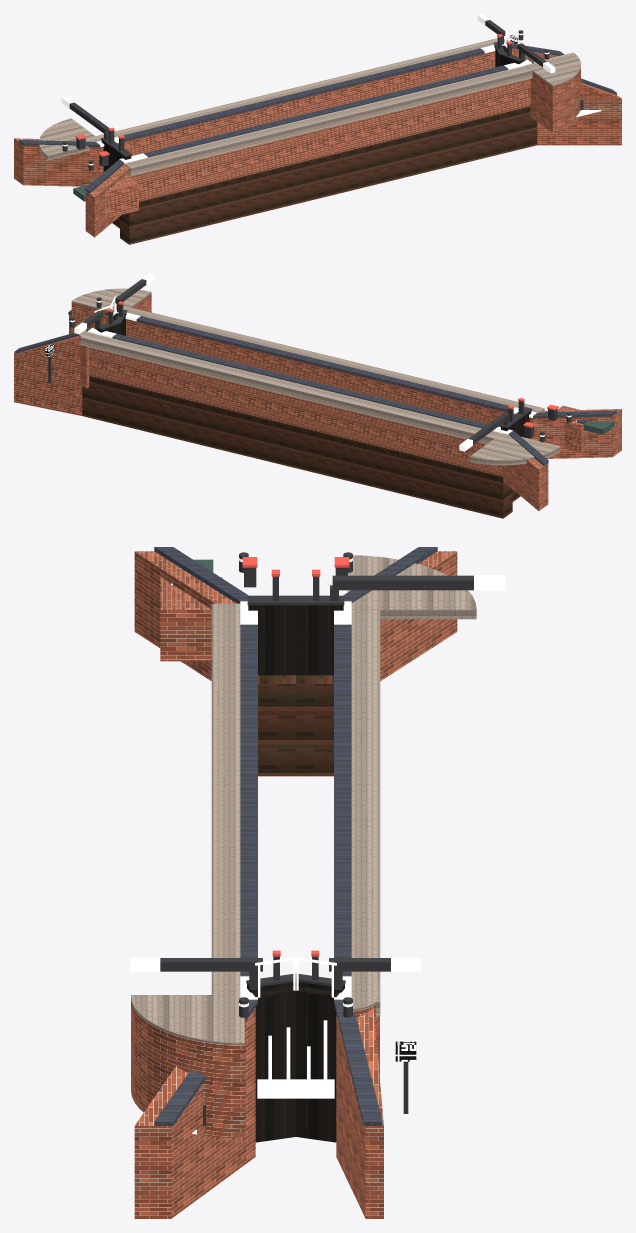
File: lock-50.glb
3 views of the same model, one above another, from view 1: azimuth 30°, elevation 25°; view 2: azimuth 150°, elevation 25°; view 3: azimuth 270°, elevation 25° (orthographic). The views are drawn at different scales.
Parts seen in each view (by area): view 1: Chamber, ChamberWet, Edge, Coping.001, TopGateCap, Coping, TopGate; view 2: Chamber, ChamberWet, Edge, Coping.001, TopGateCap, Coping, TopGate; view 3: Chamber, Edge, Coping.001, TopGate, TopGateCap, ChamberWet, Coping, Leak.
Boxes of the visible parts, x1,y1,x2,y2 form: Chamber: (14, 43, 621, 237); ChamberWet: (112, 106, 537, 244); Edge: (39, 38, 580, 175); Coping.001: (19, 42, 616, 193); TopGateCap: (62, 20, 583, 170); Coping: (61, 14, 555, 165); TopGate: (101, 45, 525, 171); Chamber: (14, 293, 621, 510); ChamberWet: (82, 376, 520, 518); Edge: (71, 288, 560, 465); Coping.001: (14, 310, 616, 465); TopGateCap: (48, 279, 571, 444); Coping: (70, 273, 571, 451); TopGate: (94, 313, 531, 438); Chamber: (131, 551, 457, 1218); Edge: (131, 555, 476, 1045); Coping.001: (154, 547, 437, 1125); TopGate: (247, 605, 344, 1142); TopGateCap: (160, 552, 473, 1125); ChamberWet: (258, 675, 333, 776); Coping: (130, 558, 505, 1007); Leak: (171, 583, 334, 1134).
Size of the model in its own units: 33.3 by 5.81 by 10.24.
Materials: 11 (8 with a texture image).
